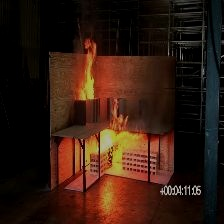fire: (84, 115, 143, 175), (67, 37, 107, 110)
